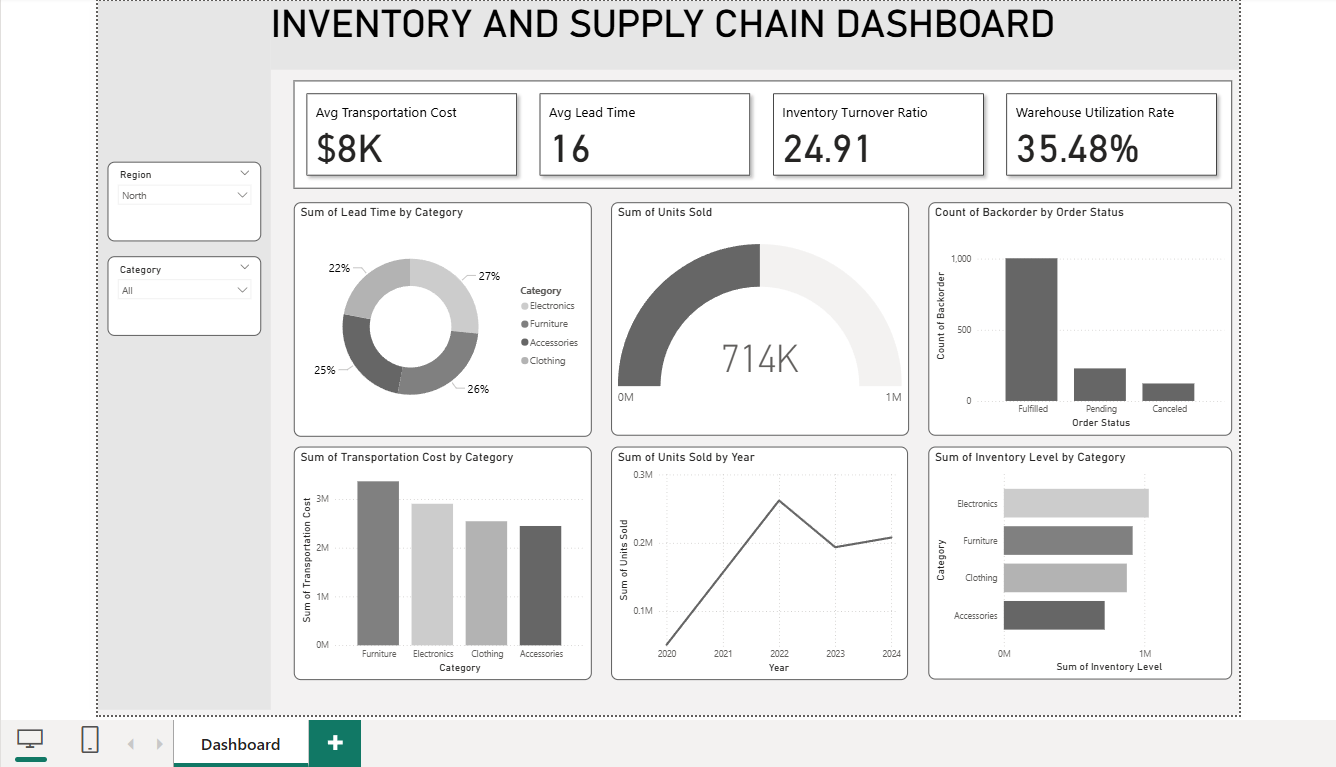

What the dashboard file says about the page in this screenshot:
{"tool":"powerbi","page":{"name":"Dashboard","canvas":[1600,1000],"ordinal":0},"visuals":[{"type":"shape","box":[0,0,242.2,993.2],"z":0},{"type":"shape","box":[242.2,0,1358.4,96.5],"z":1000},{"type":"slicer","fields":{"Values":["Inventory and SupplyChain Dataset.Region"]},"box":[13.2,225.1,215.7,111.6],"z":2000},{"type":"gauge","fields":{"Y":["Sum(Inventory and SupplyChain Dataset.Units Sold)"]},"box":[718.9,281.9,418.1,327.3],"z":3000},{"type":"clusteredColumnChart","fields":{"Y":["Sum(Inventory and SupplyChain Dataset.Transportation Cost)"],"Category":["Inventory and SupplyChain Dataset.Category"]},"box":[274.3,624.3,418.1,327.3],"z":4000},{"type":"lineChart","fields":{"Y":["Sum(Inventory and SupplyChain Dataset.Units Sold)"],"Category":["Inventory and SupplyChain Dataset.Date.Variation.Date Hierarchy.Year"]},"box":[718.9,624.3,416.2,327.3],"z":5000},{"type":"donutChart","fields":{"Y":["Sum(Inventory and SupplyChain Dataset.Lead Time)"],"Category":["Inventory and SupplyChain Dataset.Category"]},"box":[274.3,281.9,418.1,329.2],"z":6000},{"type":"clusteredColumnChart","fields":{"Y":["CountNonNull(Inventory and SupplyChain Dataset.Backorder)"],"Category":["Inventory and SupplyChain Dataset.Order Status"]},"box":[1163.5,281.9,425.7,327.3],"z":7000},{"type":"cardVisual","fields":{"Data":["Inventory and SupplyChain Dataset.Avg Transportation Cost","Inventory and SupplyChain Dataset.Avg Lead Time","Inventory and SupplyChain Dataset.Inventory Turnover Ratio","Inventory and SupplyChain Dataset.Warehouse Utilization Rate"]},"box":[274.3,111.6,1314.8,151.3],"z":8000},{"type":"clusteredBarChart","fields":{"Category":["Inventory and SupplyChain Dataset.Category"],"Y":["Sum(Inventory and SupplyChain Dataset.Inventory Level)"]},"box":[1163,624,426,327],"z":9000},{"type":"slicer","fields":{"Values":["Inventory and SupplyChain Dataset.Category"]},"box":[13.2,357.6,215.7,111.6],"z":10000}]}

Visuals, with their boxes on the page's 1600x1000 design canvas (x1, y1, x2, y2). These are canvas units, not pixel positions in the 1336x767 screenshot, which may show the page scaled, cropped or inside an application window:
shape: detection(0, 0, 242, 993)
shape: detection(242, 0, 1601, 96)
slicer - Inventory and SupplyChain Dataset.Region: detection(13, 225, 229, 337)
gauge - Sum(Inventory and SupplyChain Dataset.Units Sold): detection(719, 282, 1137, 609)
clusteredColumnChart - Sum(Inventory and SupplyChain Dataset.Transportation Cost) x Inventory and SupplyChain Dataset.Category: detection(274, 624, 692, 952)
lineChart - Sum(Inventory and SupplyChain Dataset.Units Sold) x Inventory and SupplyChain Dataset.Date.Variation.Date Hierarchy.Year: detection(719, 624, 1135, 952)
donutChart - Sum(Inventory and SupplyChain Dataset.Lead Time) x Inventory and SupplyChain Dataset.Category: detection(274, 282, 692, 611)
clusteredColumnChart - CountNonNull(Inventory and SupplyChain Dataset.Backorder) x Inventory and SupplyChain Dataset.Order Status: detection(1164, 282, 1589, 609)
cardVisual - Inventory and SupplyChain Dataset.Avg Transportation Cost x Inventory and SupplyChain Dataset.Avg Lead Time: detection(274, 112, 1589, 263)
clusteredBarChart - Inventory and SupplyChain Dataset.Category x Sum(Inventory and SupplyChain Dataset.Inventory Level): detection(1163, 624, 1589, 951)
slicer - Inventory and SupplyChain Dataset.Category: detection(13, 358, 229, 469)
